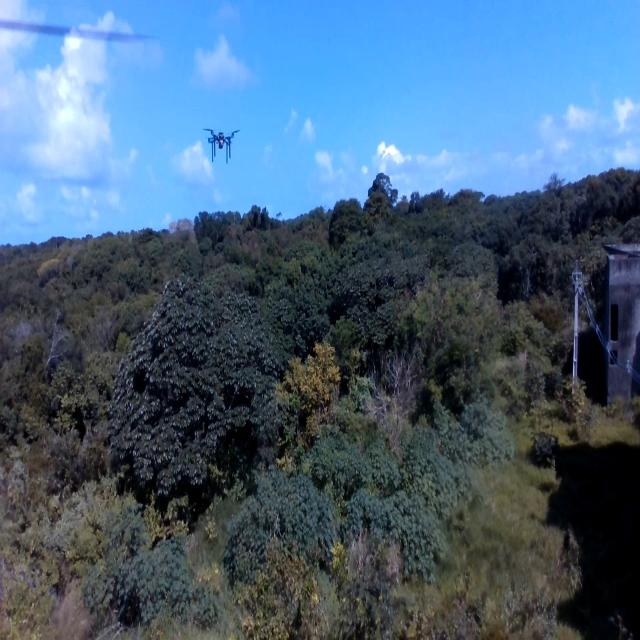-uav-: (197, 117, 243, 178)
